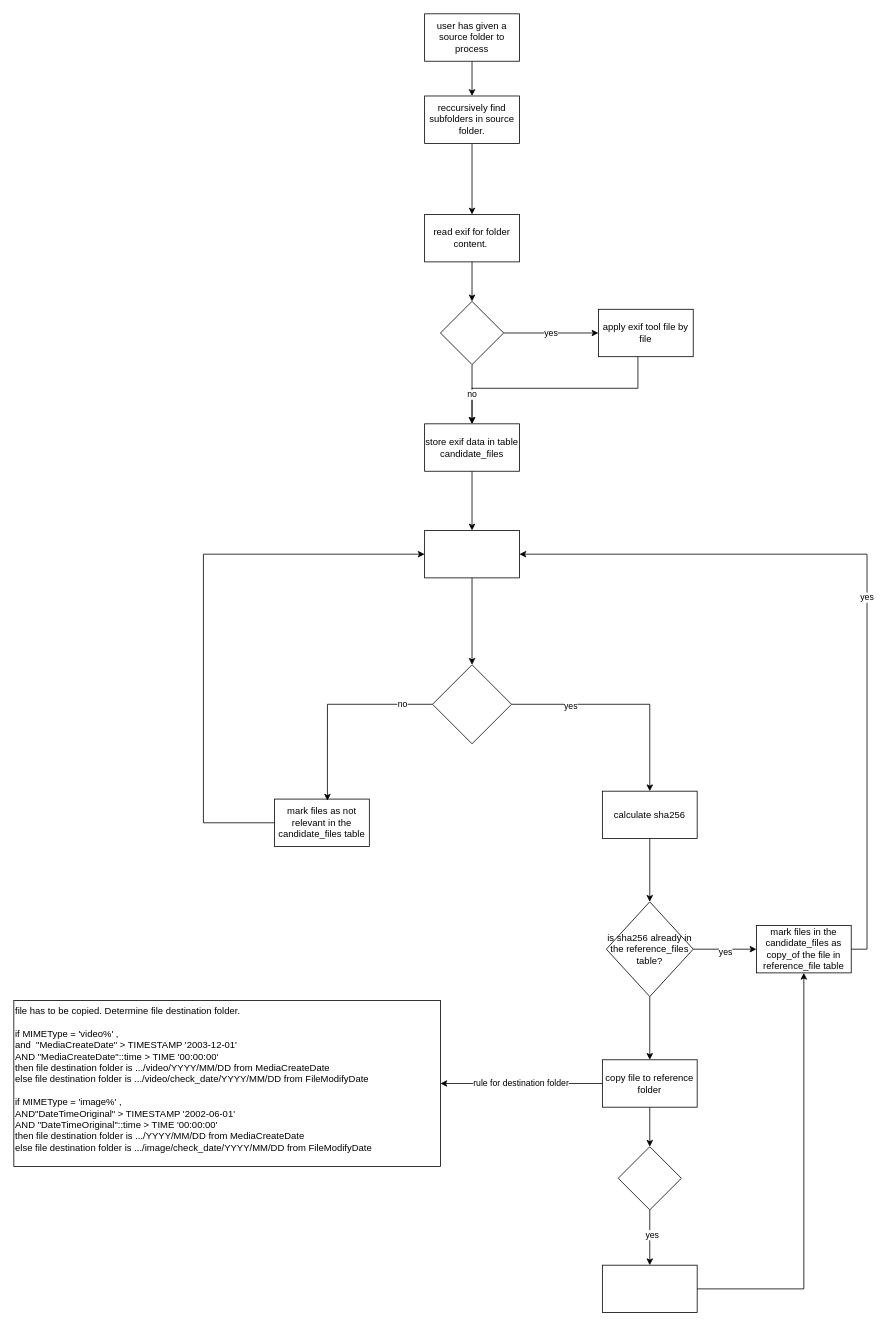
Image size: 887x1326. Some labels were removed from this diagram. The box of each missing label's shape, as (x1, y1, x2, y2) in pixels:
add corresponding entry to reference_file table: (602, 1264, 697, 1313)
Do exiftool have return code >1 ?: (440, 301, 504, 365)
File succesfuly copied?: (617, 1146, 681, 1210)
is MIMEType = 'image%' or 'video%'?: (432, 664, 512, 744)
Loop on exif data: (424, 530, 519, 578)
